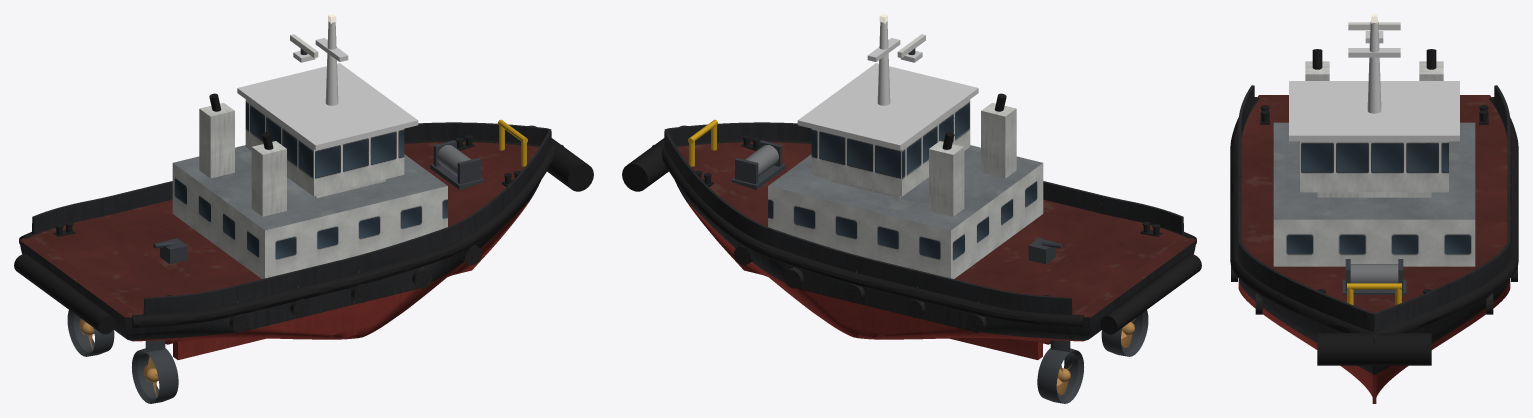
File: tugboat-9ee89198.glb
3 views of the same model, side by side, from view 1: azimuth 30°, elevation 25°; view 2: azimuth 150°, elevation 25°; view 3: azimuth 270°, elevation 25° (orthographic). The views are drawn at different scales.
Parts seen in each view (by area): view 1: Hull, Deckhouse, Wheelhouse, Bulwarks, Fenders, Exhaust stacks, Azimuth thrusters, Towing winch and staple, Mast, Skeg; view 2: Hull, Deckhouse, Wheelhouse, Bulwarks, Fenders, Exhaust stacks, Azimuth thrusters, Towing winch and staple, Mast, Skeg; view 3: Hull, Deckhouse, Wheelhouse, Fenders, Bulwarks, Towing winch and staple, Mast, Exhaust stacks, Wheelhouse pedestal.
Boxes of the visible parts, bbox=[...] form: Hull: bbox=[19, 142, 540, 344]; Deckhouse: bbox=[172, 145, 447, 278]; Wheelhouse: bbox=[237, 63, 418, 196]; Bulwarks: bbox=[32, 122, 551, 315]; Fenders: bbox=[14, 125, 593, 334]; Exhaust stacks: bbox=[199, 93, 286, 216]; Azimuth thrusters: bbox=[67, 310, 178, 403]; Towing winch and staple: bbox=[53, 119, 527, 296]; Mast: bbox=[290, 14, 348, 105]; Skeg: bbox=[173, 338, 266, 359]; Hull: bbox=[675, 142, 1196, 344]; Deckhouse: bbox=[768, 145, 1043, 278]; Wheelhouse: bbox=[797, 63, 978, 196]; Bulwarks: bbox=[664, 122, 1183, 315]; Fenders: bbox=[622, 125, 1201, 334]; Exhaust stacks: bbox=[929, 93, 1016, 216]; Azimuth thrusters: bbox=[1037, 310, 1148, 403]; Towing winch and staple: bbox=[688, 119, 1162, 296]; Mast: bbox=[867, 14, 925, 105]; Skeg: bbox=[949, 338, 1042, 359]; Hull: bbox=[1238, 95, 1510, 403]; Deckhouse: bbox=[1273, 122, 1475, 266]; Wheelhouse: bbox=[1289, 81, 1459, 192]; Fenders: bbox=[1230, 97, 1518, 365]; Bulwarks: bbox=[1238, 85, 1510, 332]; Towing winch and staple: bbox=[1260, 105, 1488, 305]; Mast: bbox=[1348, 14, 1400, 113]; Exhaust stacks: bbox=[1305, 49, 1443, 80]; Wheelhouse pedestal: bbox=[1317, 192, 1431, 197].
Size of the model in its own units: 29.4 by 17.03 by 13.14.
19 materials, 19 textured.
